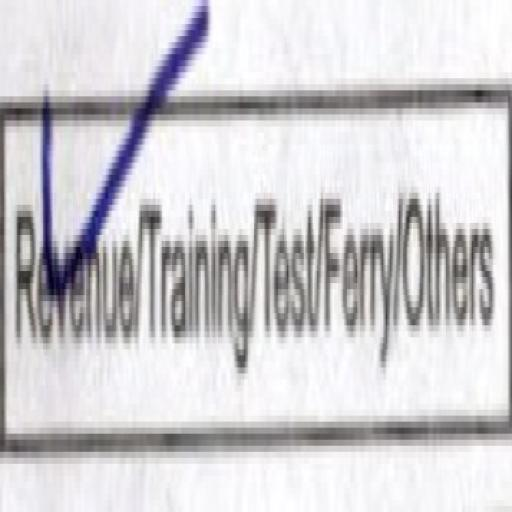check: (0, 0, 140, 495)
